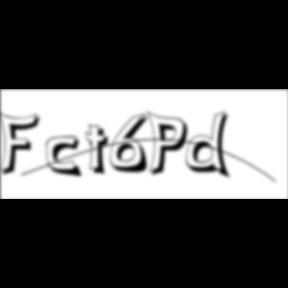6: (110, 112, 156, 176)
F: (0, 110, 46, 178)
P: (148, 110, 194, 180)
c: (46, 136, 86, 180)
d: (186, 110, 236, 182)
t: (86, 124, 116, 179)
